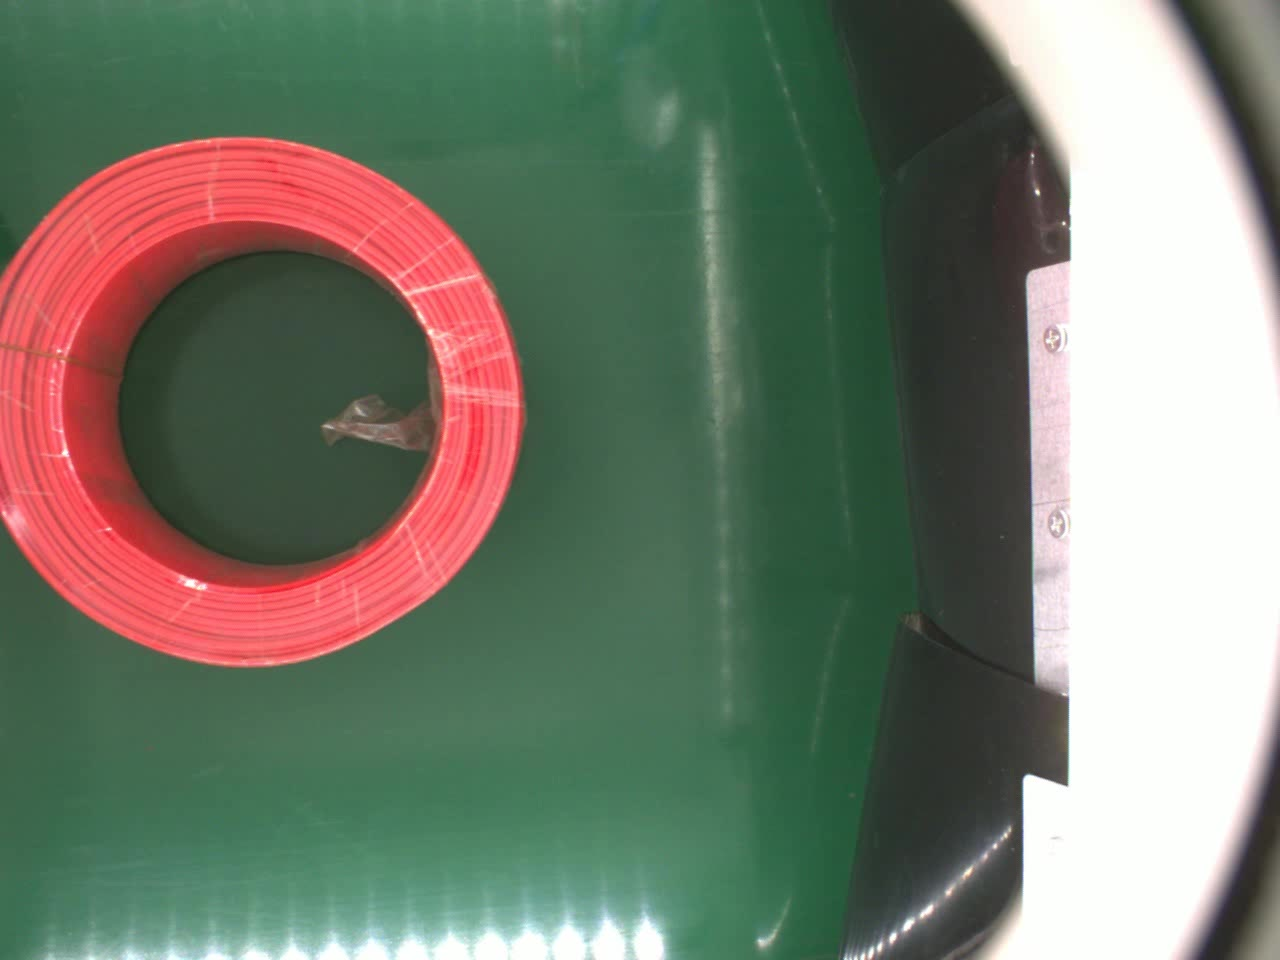red: (0, 137, 529, 668)
